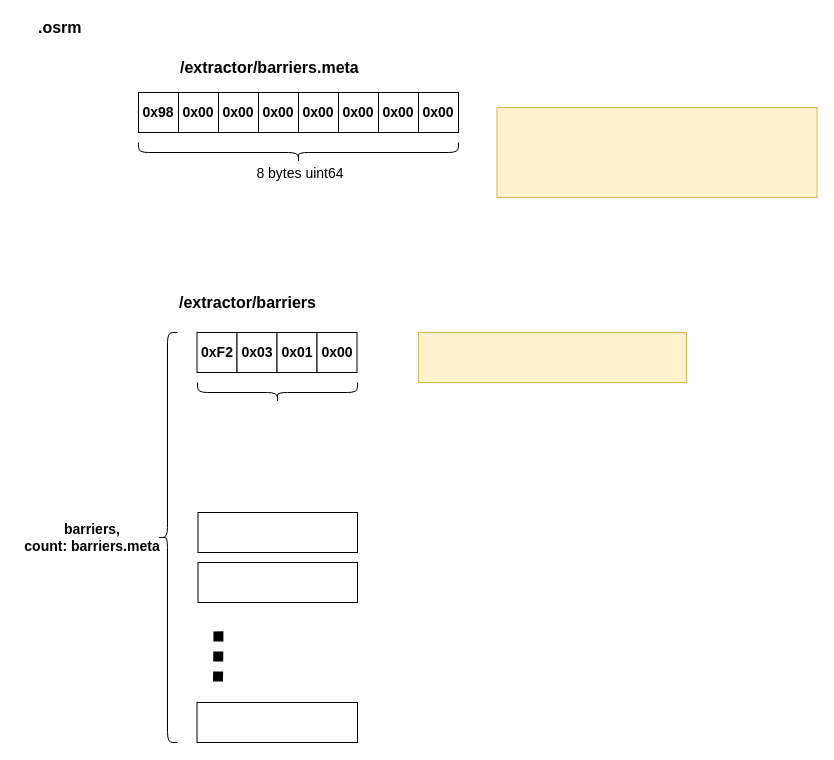
Some shapes in this 834 by 760 pixel diagram are drawn without their labels. Each missing label, with the centre of its shape:
"4 bytes uint32 Internal NodeID" goes at (x=277, y=392).
"Indicates how many barrier nodes stored in /extractor/barriers Sample value: 152" goes at (x=656, y=152).
"Sample value: 66546" goes at (x=552, y=357).
